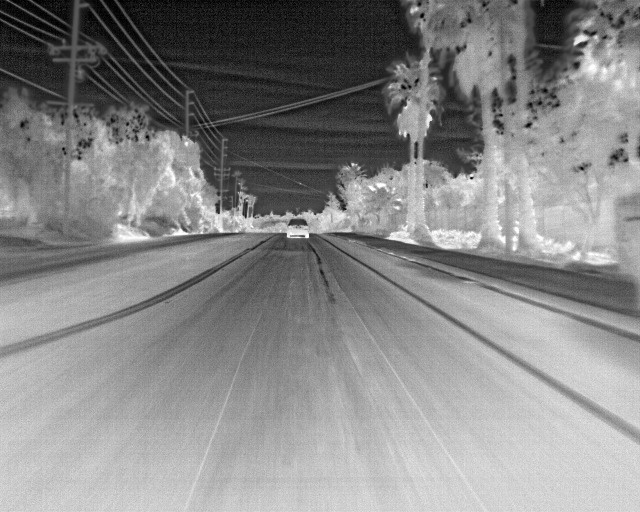vehicle: (286, 218, 309, 239)
